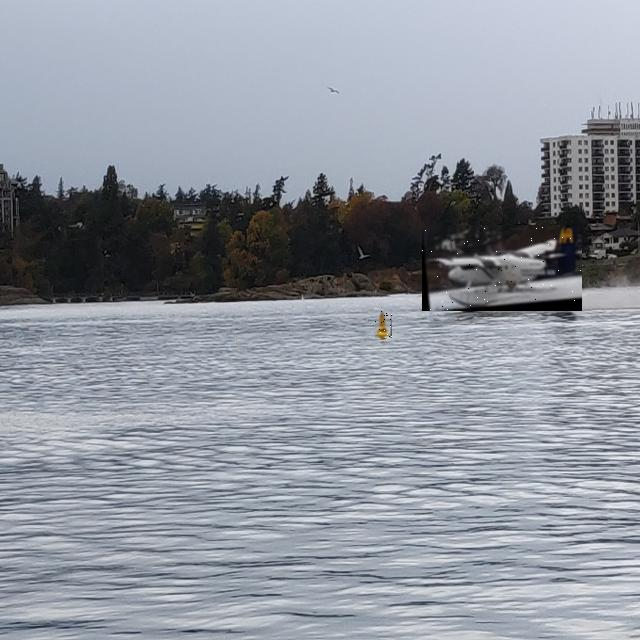aircraft: (422, 225, 582, 311)
mark: (375, 310, 392, 338)
